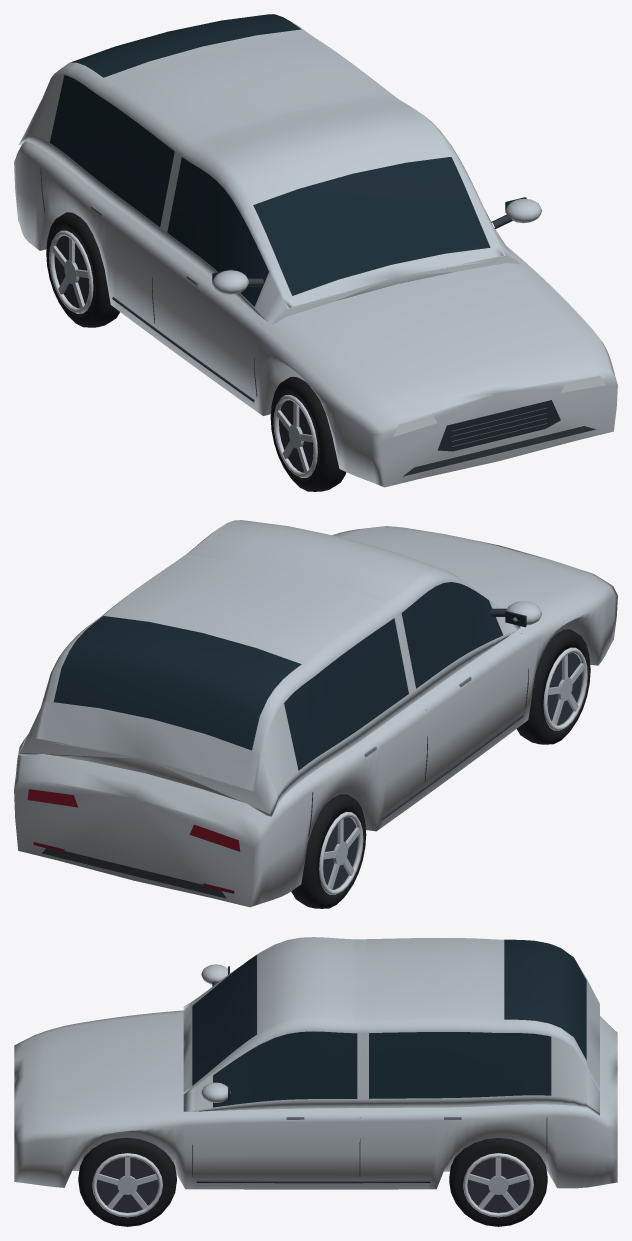
Rendered from hatchback-generic.glb.
3 renders of one model, top to bottom at view 1: azimuth 30°, elevation 25°; view 2: azimuth 150°, elevation 25°; view 3: azimuth 270°, elevation 25°, orthographic. The views are drawn at different scales.
Visible parts, largest first — view 1: body, glazing, trim-and-lamps, tyres; view 2: body, glazing, trim-and-lamps, tyres; view 3: body, glazing, trim-and-lamps, tyres.
Boxes of the visible parts, x1,y1,x2,y2 form: body: (14, 20, 617, 487); glazing: (49, 14, 526, 306); trim-and-lamps: (40, 168, 605, 477); tyres: (46, 212, 346, 491); body: (14, 520, 617, 907); glazing: (53, 582, 526, 770); trim-and-lamps: (27, 608, 587, 898); tyres: (291, 629, 590, 908); body: (14, 937, 617, 1189); glazing: (192, 939, 586, 1107); trim-and-lamps: (92, 981, 547, 1217); tyres: (78, 1137, 547, 1226).
Bounding box in the file's own units: 2.11 × 1.53 × 4.1.
